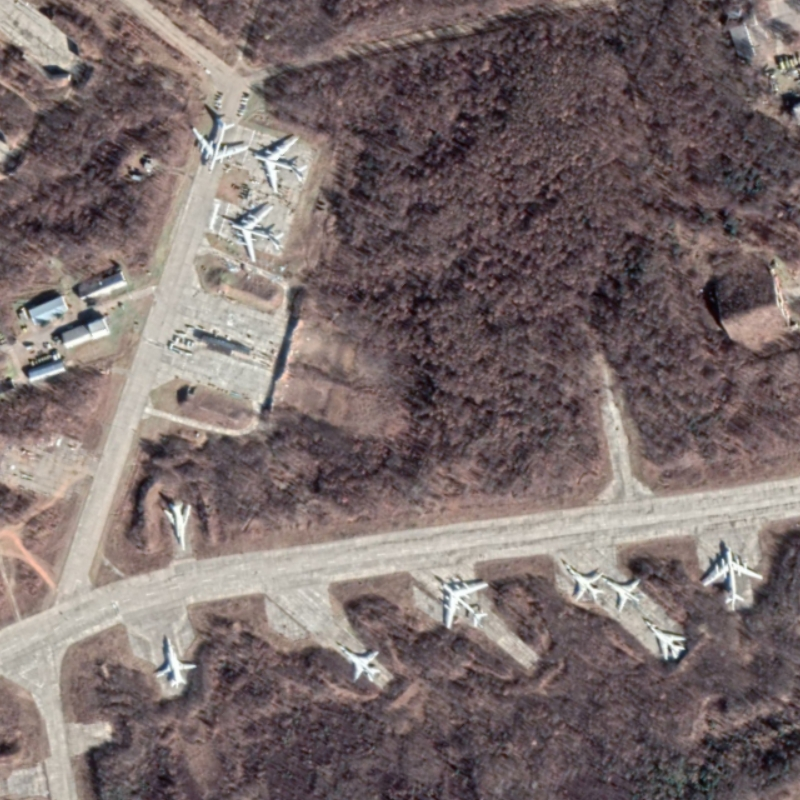A12: (149, 632, 199, 689), (639, 613, 691, 663), (331, 640, 385, 686), (157, 497, 197, 555), (560, 558, 605, 604), (602, 568, 645, 614)
A17: (700, 542, 766, 605), (224, 201, 287, 266), (250, 133, 313, 197), (187, 114, 249, 175), (430, 574, 493, 632)
